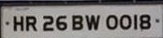character: (84, 14, 100, 30), (138, 13, 151, 30), (24, 15, 37, 31), (105, 14, 118, 30), (71, 14, 83, 31), (42, 14, 53, 31), (55, 15, 67, 30), (119, 14, 131, 29), (12, 15, 23, 31), (132, 13, 137, 30)
